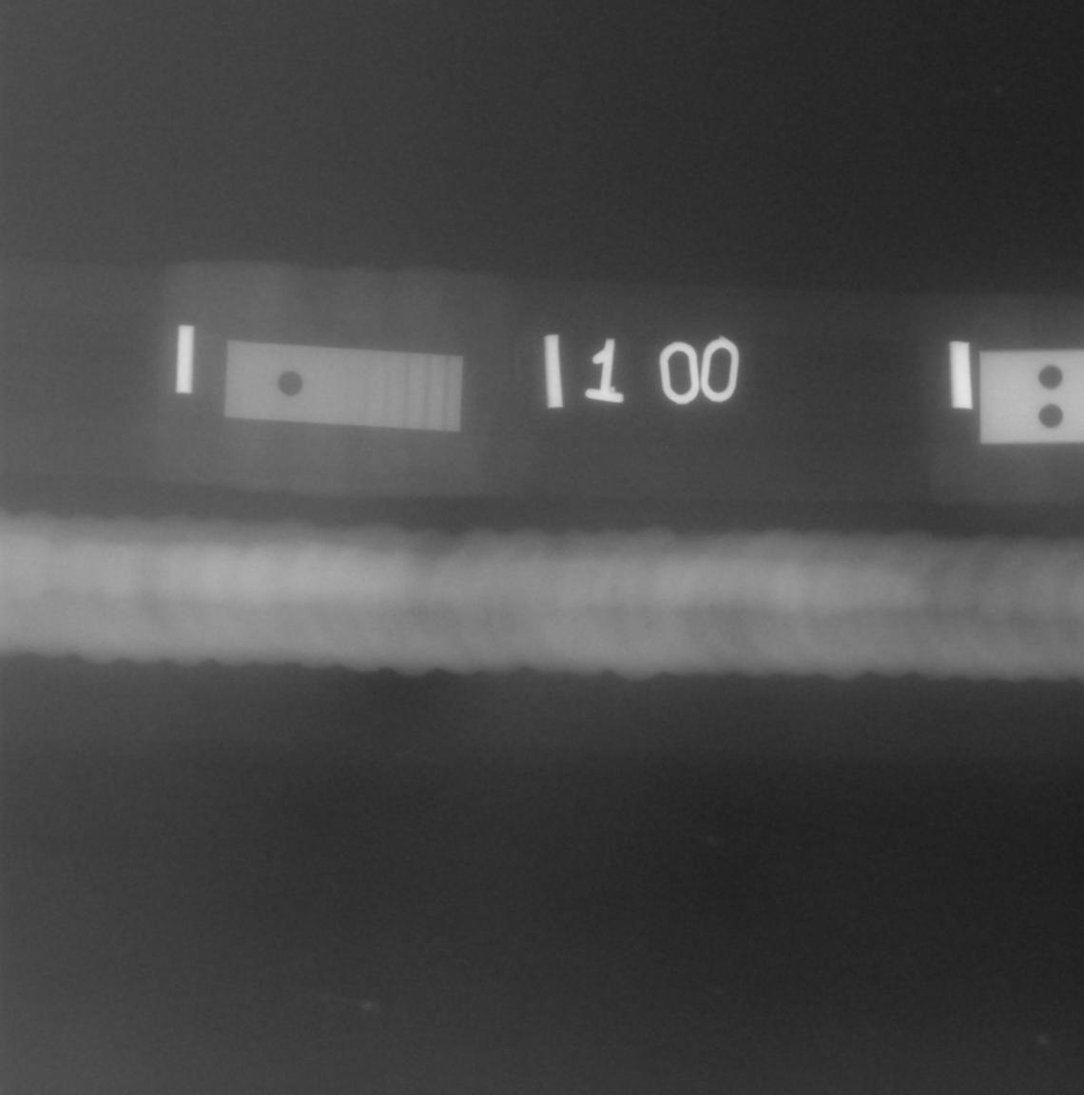Inclusion: (964, 604, 979, 615), (644, 621, 653, 630)
Pore/Porosity: (612, 586, 617, 591), (709, 604, 713, 607)
Reference Standard 1: (223, 340, 464, 432)
